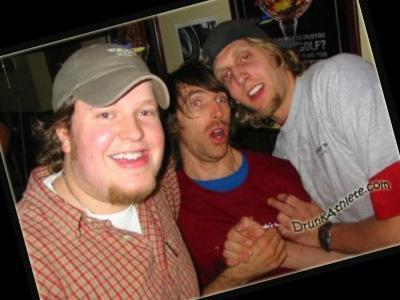Drunk: (78, 97, 166, 198), (215, 51, 283, 114), (177, 85, 230, 160)
